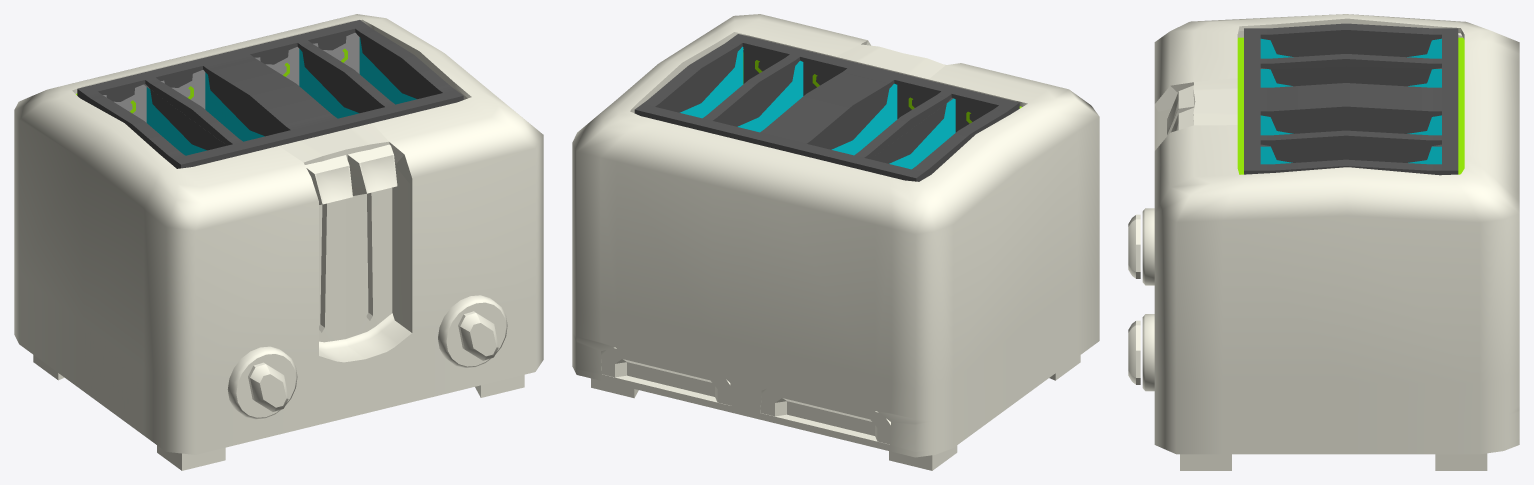
The model's file is READY TO TEXTURE.fbx.
3 renders of one model, left to right at view 1: azimuth 30°, elevation 25°; view 2: azimuth 150°, elevation 25°; view 3: azimuth 270°, elevation 25°, orthographic. The views are drawn at different scales.
Parts seen in each view (by area): view 1: Outerbox3, Top, Turn_Knob_right_base, Turn_Knob_left_base, Push_knob_Right, cut_out_piece2, cut_out_piece4, cut_out_piece1, Push_knob_left, Turn_Knob_right, Turn_Knob_left, Slot1 (+3 smaller); view 2: Outerbox3, Top, Crumb_Tray2, Crumb_Tray1, cut_out_piece1, cut_out_piece2, cut_out_piece4, Slot1, foot3; view 3: Outerbox3, Top, inner_box2, Turn_Knob_left_base, Turn_Knob_right_base, foot2, foot1, Turn_Knob_left, Turn_Knob_right, Slot2, Slot4, Slot3 (+2 smaller).
Part boxes in pixels (<box>): Outerbox3: <box>14,14,543,454</box>; Top: <box>77,20,463,168</box>; Turn_Knob_right_base: <box>438,295,507,368</box>; Turn_Knob_left_base: <box>227,346,297,419</box>; Push_knob_Right: <box>347,144,397,195</box>; cut_out_piece2: <box>161,70,264,141</box>; cut_out_piece4: <box>255,47,358,118</box>; cut_out_piece1: <box>103,84,206,155</box>; Push_knob_left: <box>305,155,352,204</box>; Turn_Knob_right: <box>458,311,498,360</box>; Turn_Knob_left: <box>248,362,288,411</box>; Slot1: <box>359,37,416,104</box>; Outerbox3: <box>572,14,1099,457</box>; Top: <box>634,34,1019,181</box>; Crumb_Tray2: <box>760,386,890,444</box>; Crumb_Tray1: <box>601,347,731,405</box>; cut_out_piece1: <box>889,98,955,169</box>; cut_out_piece2: <box>831,83,897,155</box>; cut_out_piece4: <box>737,61,803,132</box>; Slot1: <box>680,46,799,118</box>; foot3: <box>889,445,957,470</box>; Outerbox3: <box>1154,14,1519,454</box>; Top: <box>1244,23,1458,175</box>; inner_box2: <box>1237,37,1464,174</box>; Turn_Knob_left_base: <box>1142,208,1154,285</box>; Turn_Knob_right_base: <box>1142,314,1154,391</box>; foot2: <box>1435,453,1487,470</box>; foot1: <box>1180,454,1231,470</box>; Turn_Knob_left: <box>1128,214,1140,278</box>; Turn_Knob_right: <box>1128,320,1140,384</box>; Slot2: <box>1260,115,1441,146</box>; Slot4: <box>1260,38,1441,68</box>; Slot3: <box>1260,69,1441,87</box>.
Size of the model in its own units: 8.45 by 6.04 by 7.34.
